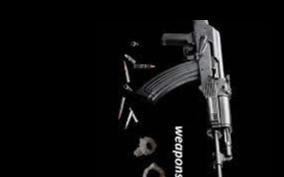larga: (136, 21, 234, 177)
